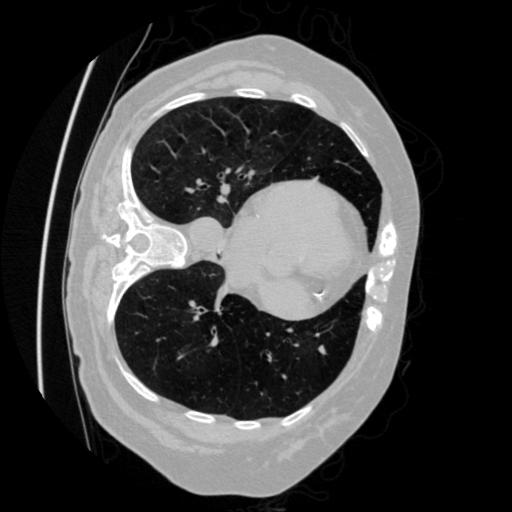nodule: (315, 345, 330, 360)
